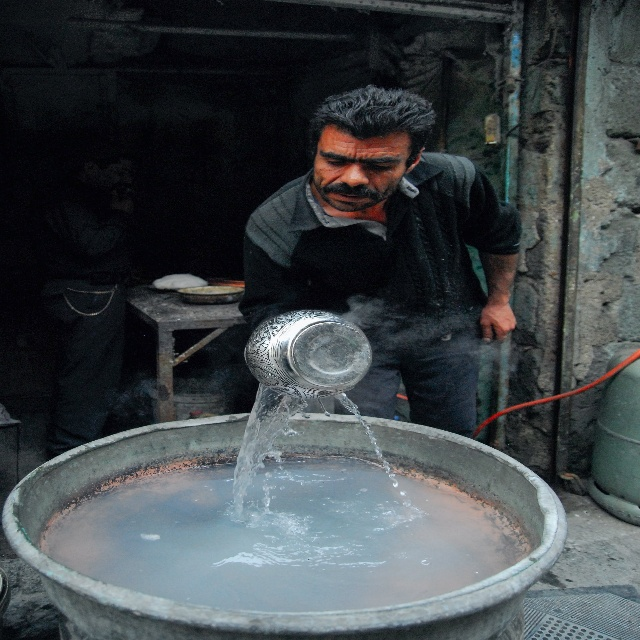Sin_guantes: (480, 301, 517, 342)
